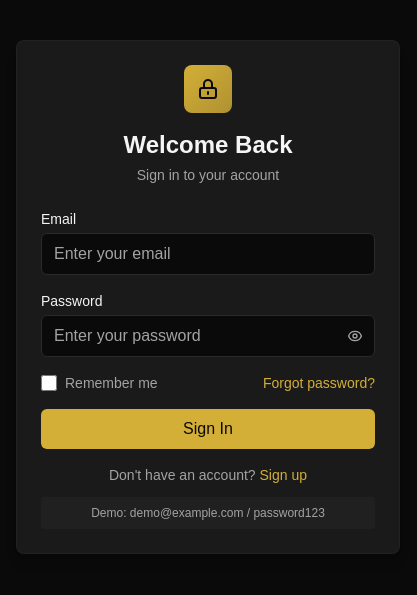
LoginPage › validates email field
Note: Submit with empty email
Click the button "Sign In" at (208, 429), box [41, 409, 375, 449]
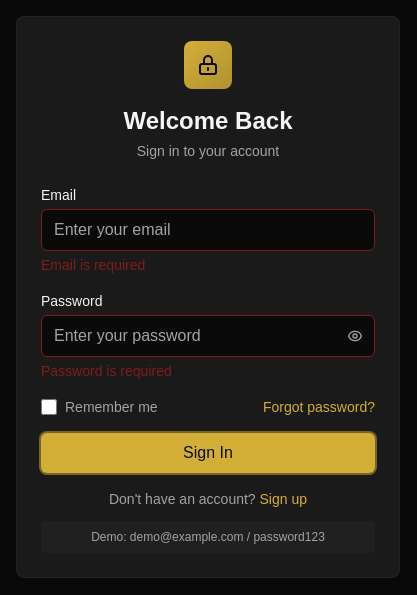
Expected: the text "Email is required" is shown, [41, 257, 145, 273]
